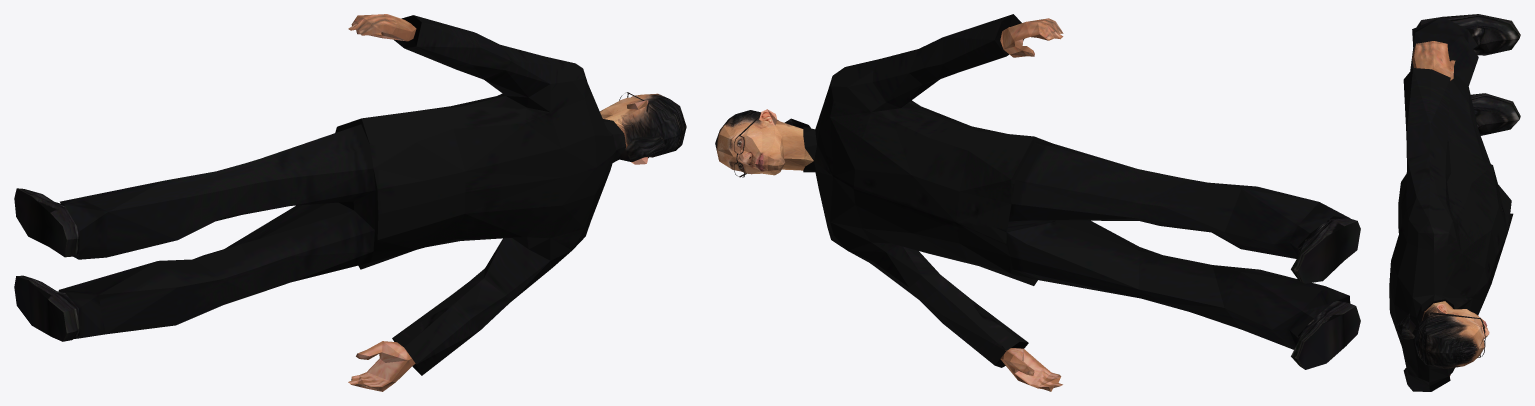
The model's file is suzie.obj.
3 views of the same model, side by side, from view 1: azimuth 30°, elevation 25°; view 2: azimuth 150°, elevation 25°; view 3: azimuth 270°, elevation 25° (orthographic). The views are drawn at different scales.
Visible parts, largest first — view 1: Root; view 2: Root; view 3: Root.
Part boxes in pixels (<box>): Root: <box>14,14,686,391</box>; Root: <box>715,14,1360,391</box>; Root: <box>1389,14,1520,391</box>.
Size of the model in its own units: 1.83 by 1.03 by 0.3605.
1 material, 1 textured.
